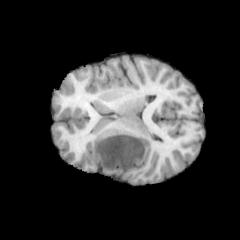glioma: (93, 133, 151, 170)
